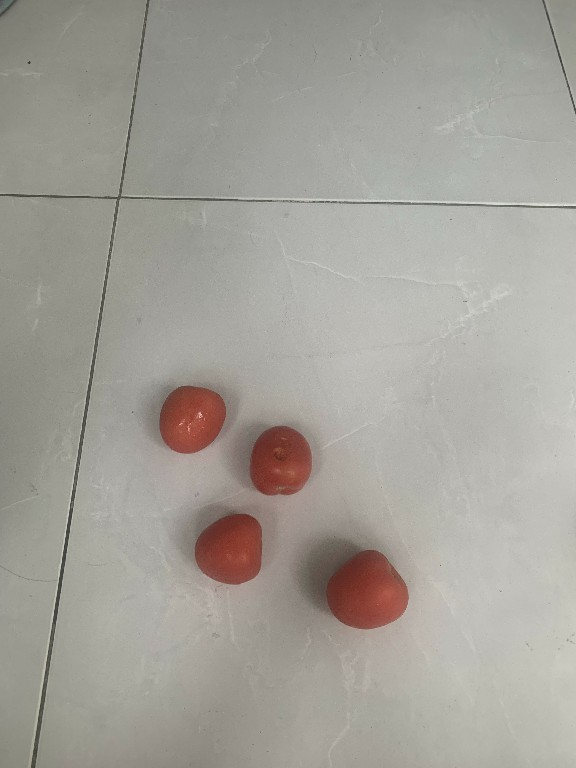OK: (325, 542, 417, 633), (146, 378, 230, 461), (187, 508, 271, 590), (244, 421, 319, 502)
